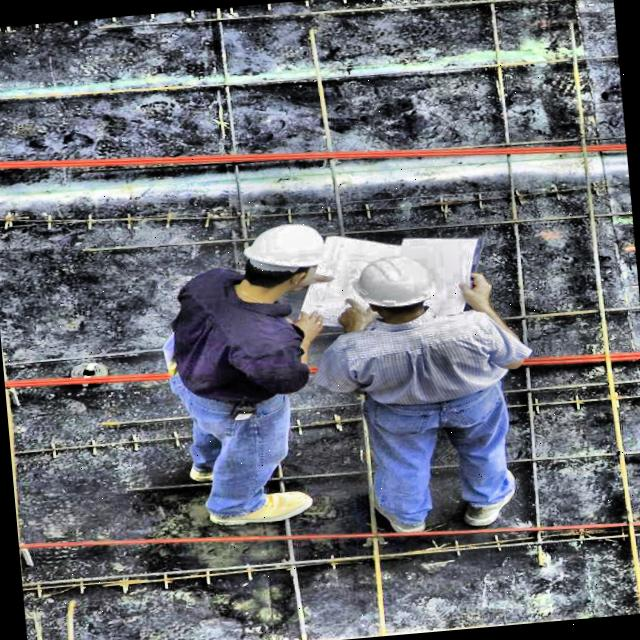helmet: (223, 210, 339, 317), (331, 238, 446, 339)
